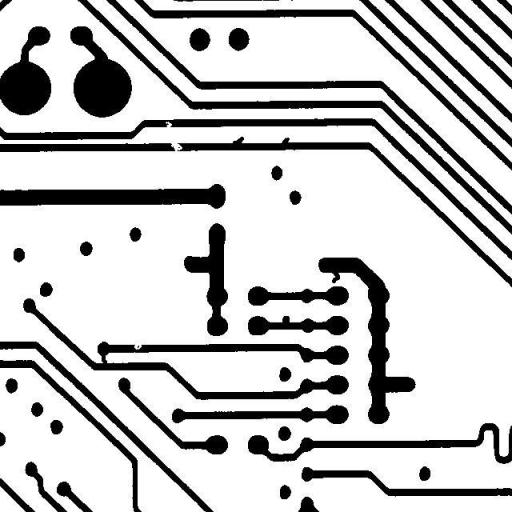mousebite: (126, 335, 149, 357), (158, 114, 179, 134)
open: (162, 132, 190, 160)
short: (94, 344, 114, 374)
spur: (320, 260, 347, 290), (225, 129, 251, 153), (274, 308, 297, 332), (274, 130, 296, 152)
